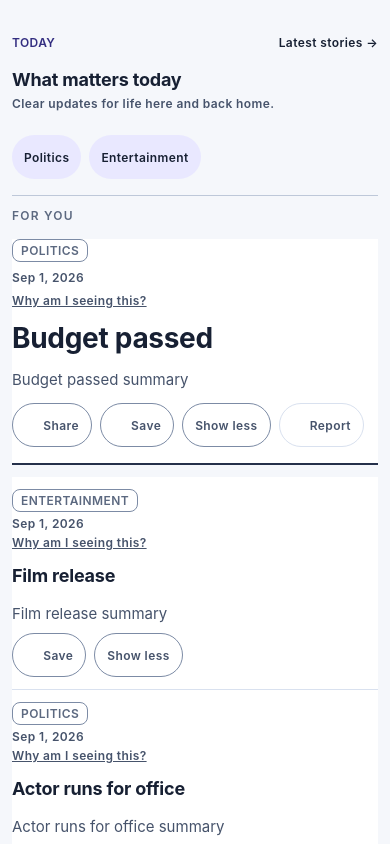
Test: 'Show less' on a Home card hides every story and chip from that topic, and it persists
expect the text "Film release" is shown: met, box [12, 565, 115, 586]
Step 1. Click the button with aria-label "Show less like: Film release" → x=138, y=655, box [94, 633, 183, 677]
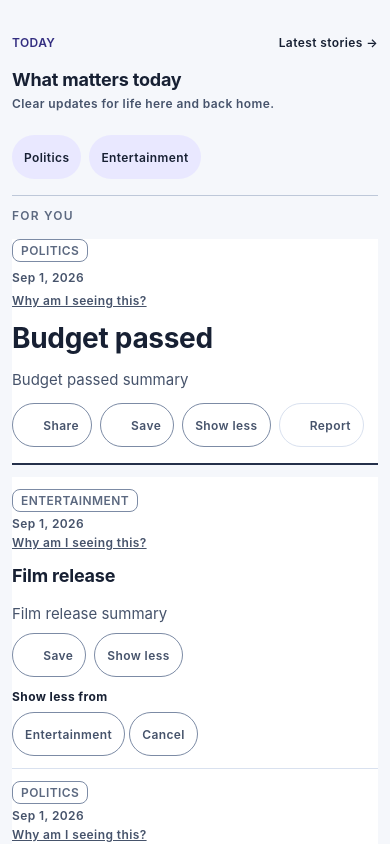
Step 2. Click the button with aria-label "Hide stories about Entertainment" → x=69, y=734, box [12, 712, 125, 756]
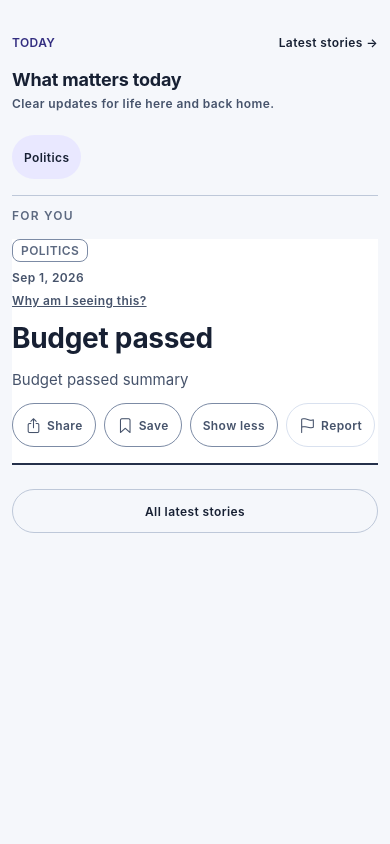
expect the link "Actor runs for office" is not shown: met
expect the link "Film release" is gone: met
